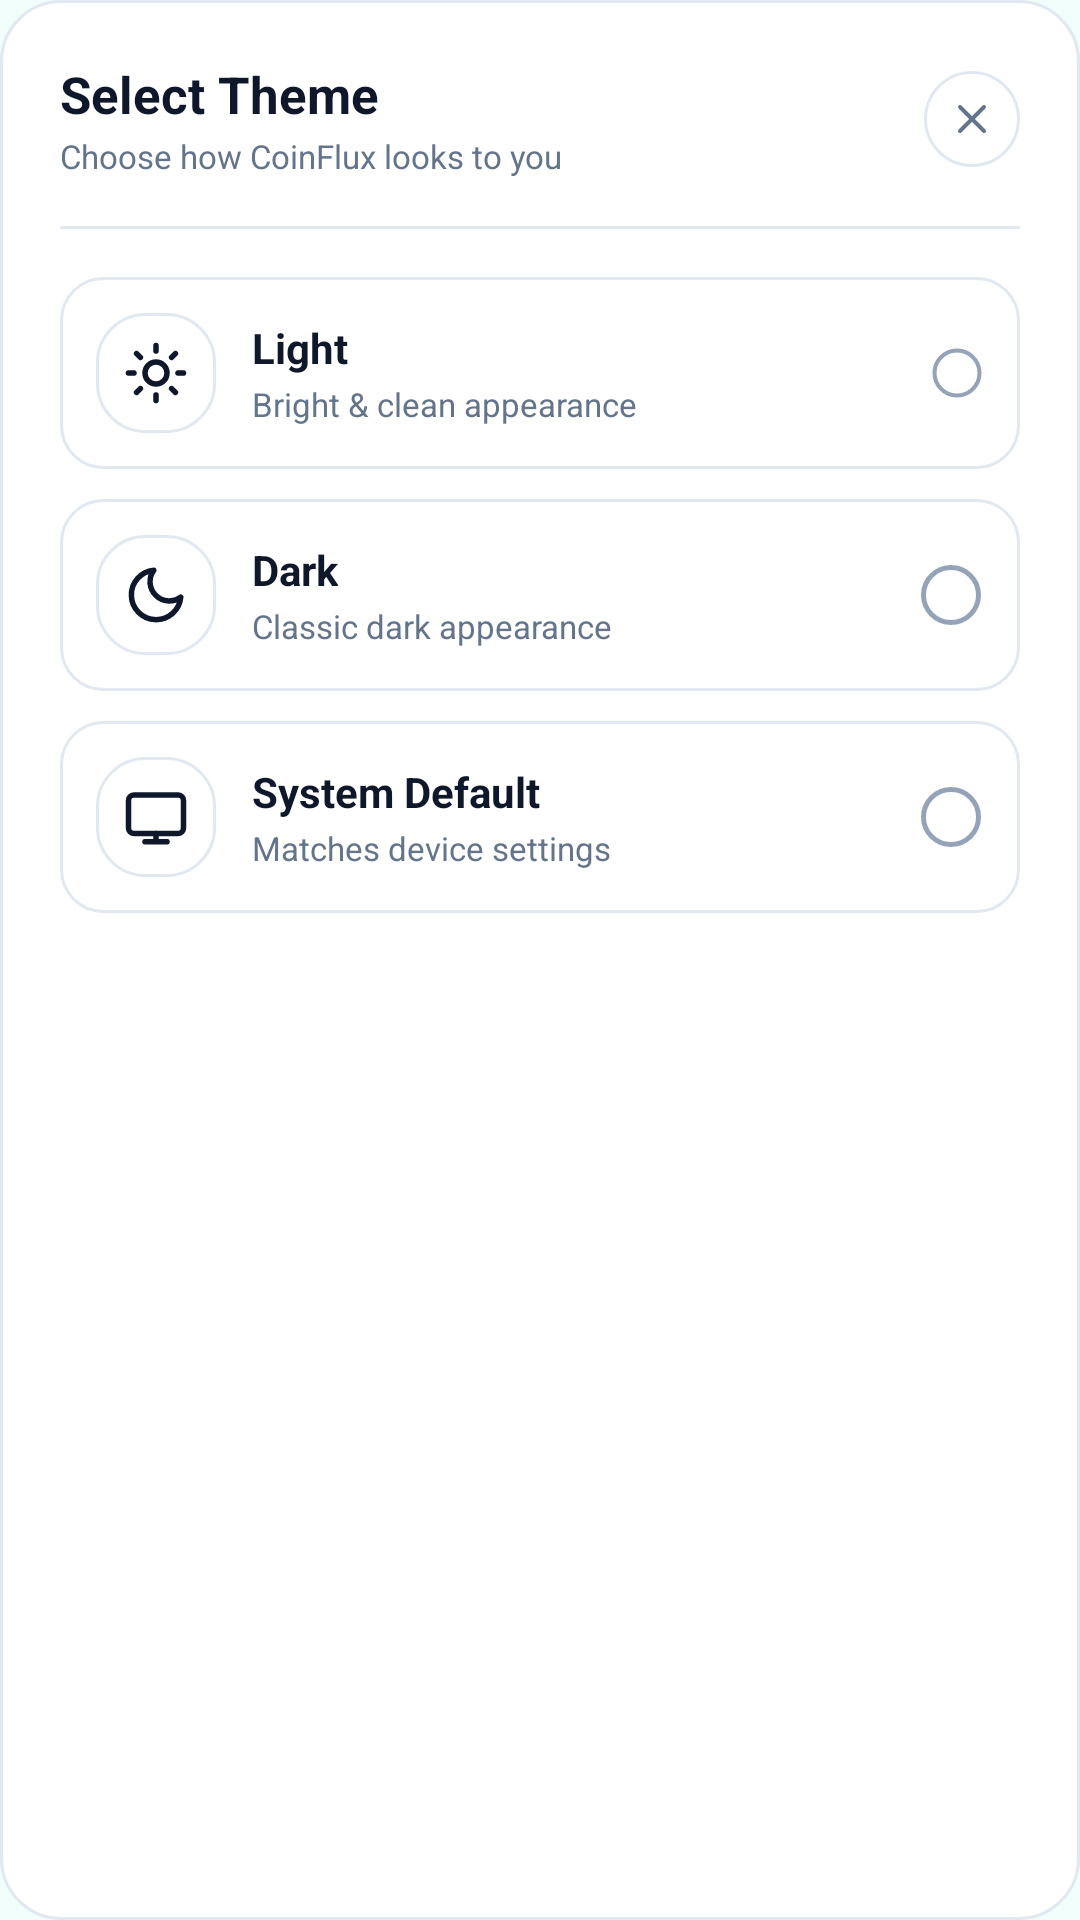

Where icons sit on this 1080×1920 app screen, as (x1, y1, x2, y2):
checkbox unchecked: (932, 348, 982, 398), (921, 565, 981, 625), (921, 787, 981, 847)
close: (958, 105, 986, 133)
theme system: (125, 792, 187, 845)
